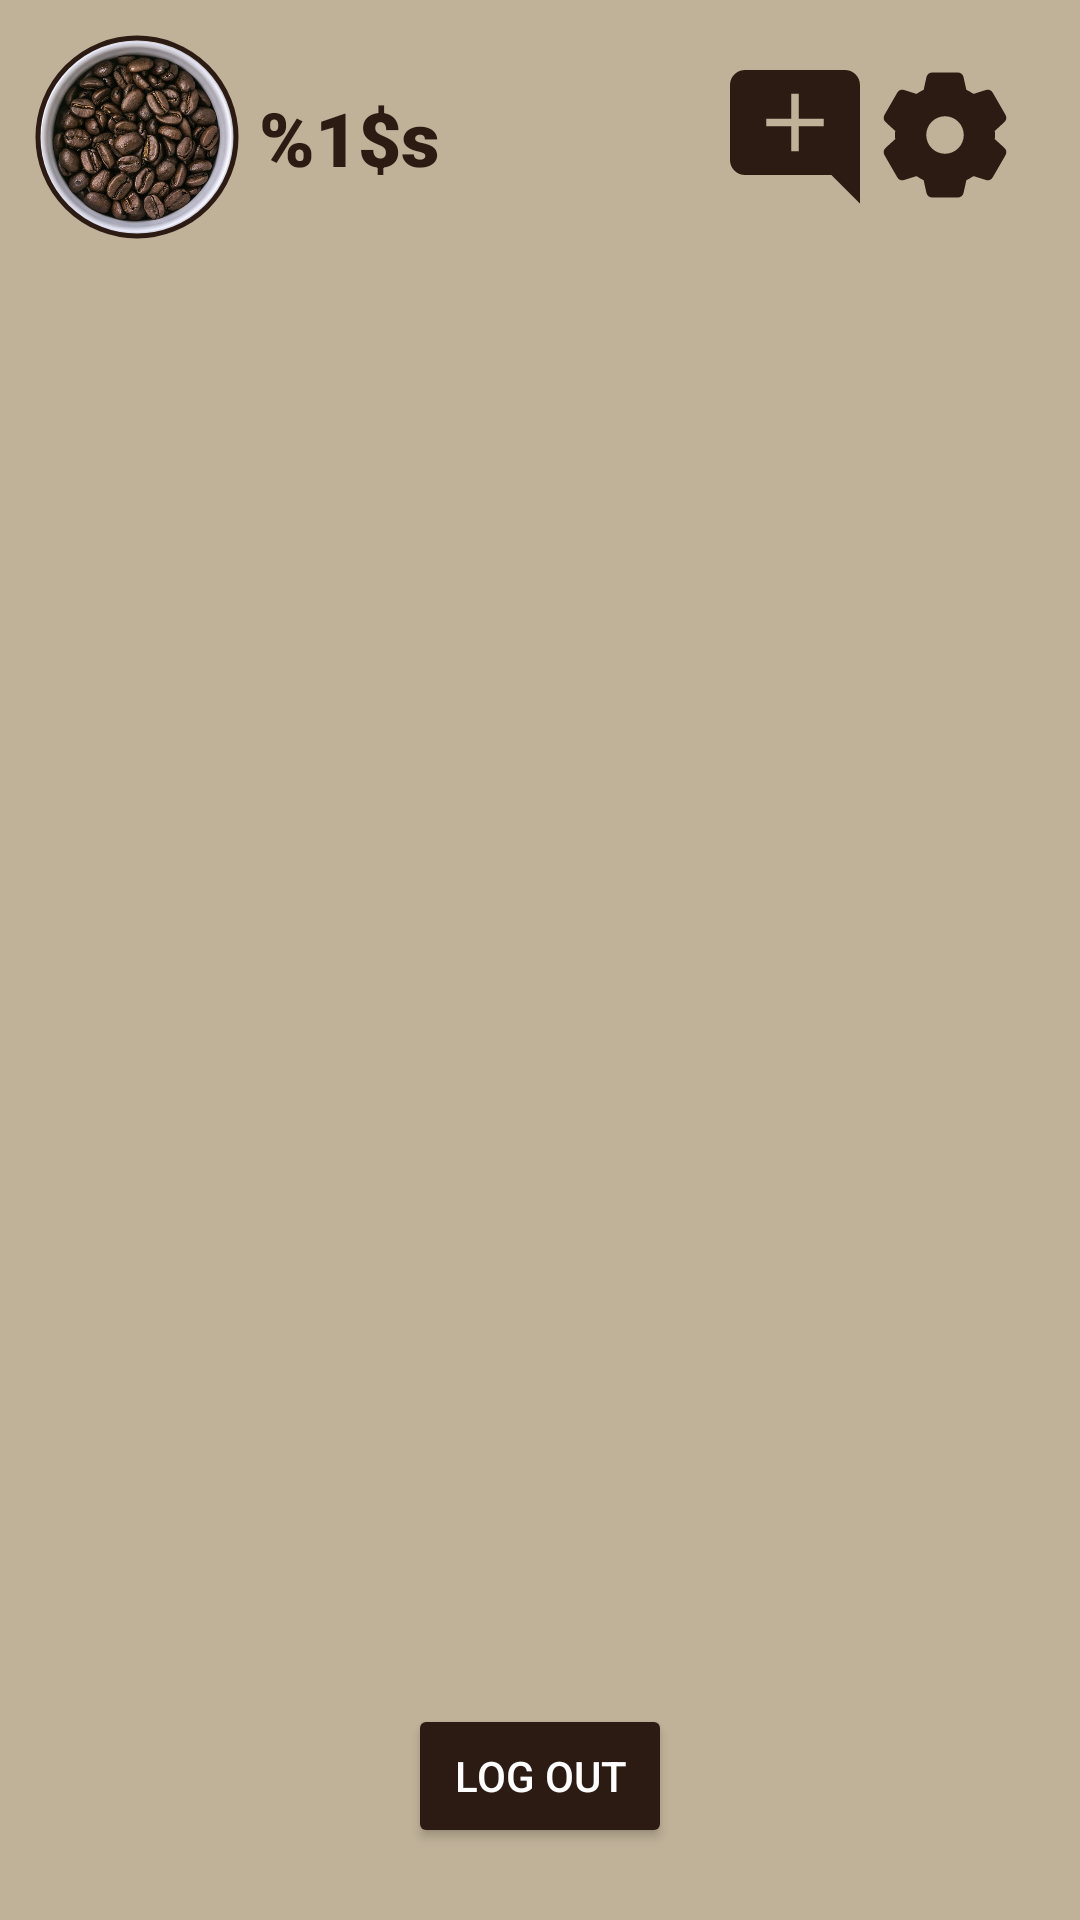

Where icons sit on this 1080 x 1920 app screen, as detection(x1, y1, x2, y2):
Start a new chat: detection(730, 70, 860, 204)
User settings: detection(883, 72, 1007, 198)
